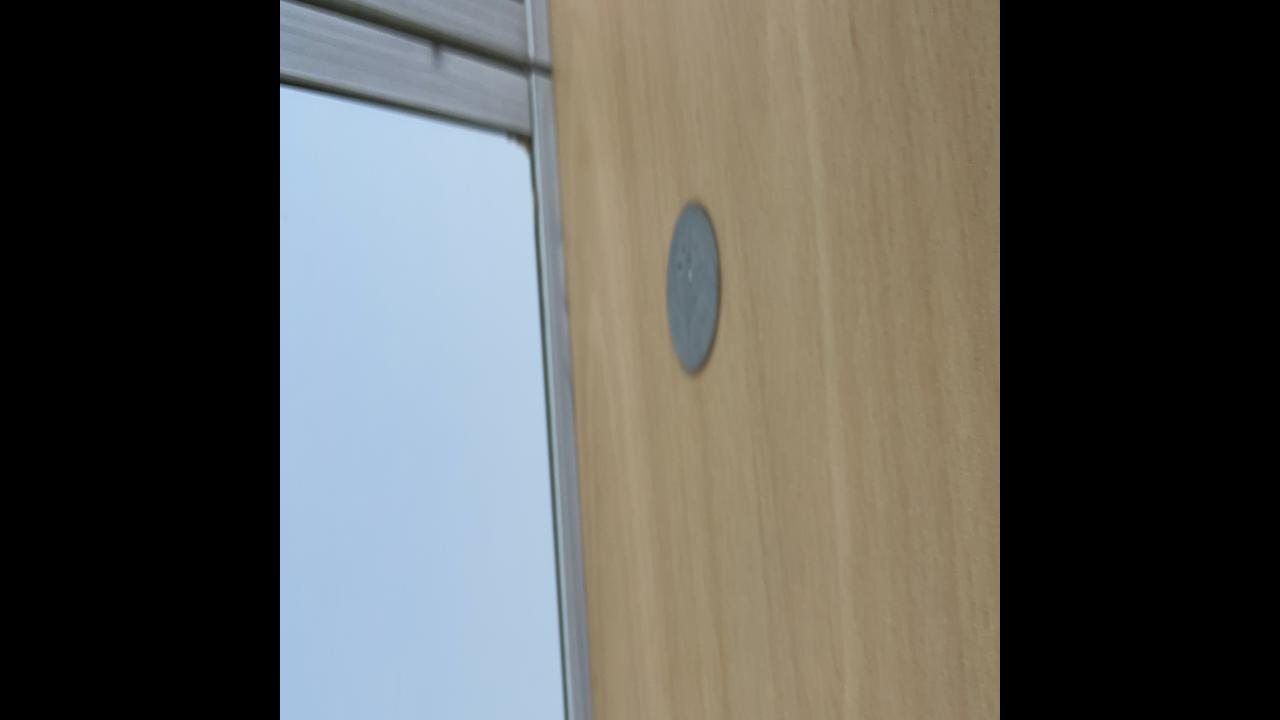coin: (664, 195, 722, 377)
